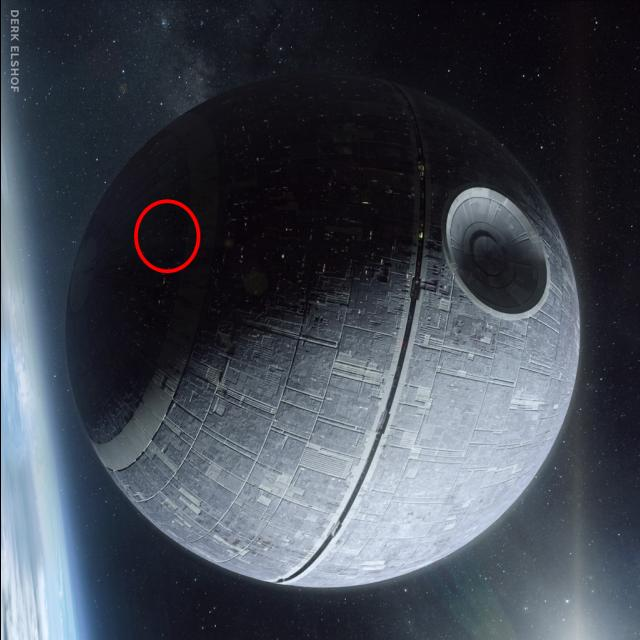Death-star: (62, 71, 579, 594)
